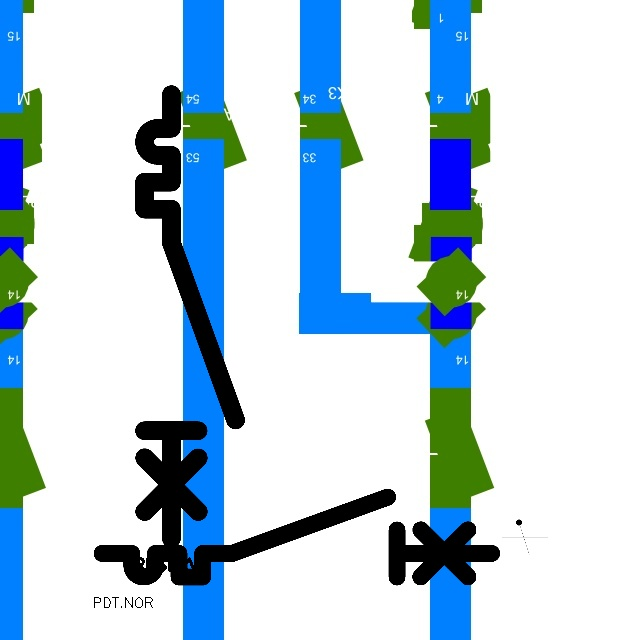interruptor_termomagnetico: (133, 83, 247, 550), (92, 487, 501, 587)
